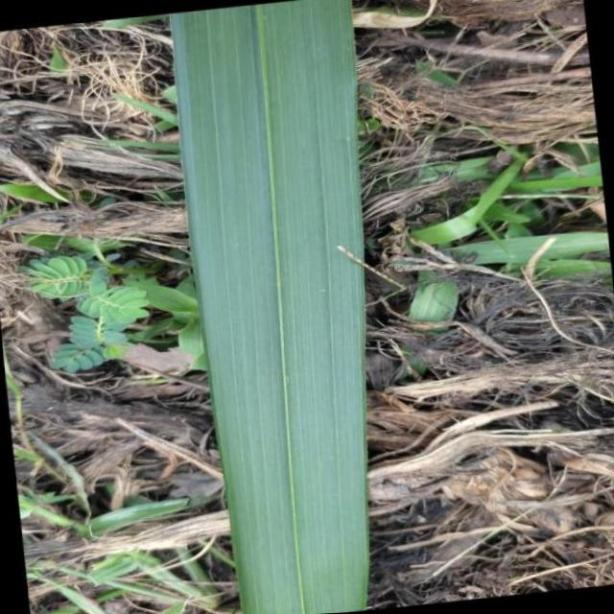Healthy: (169, 5, 371, 614)
